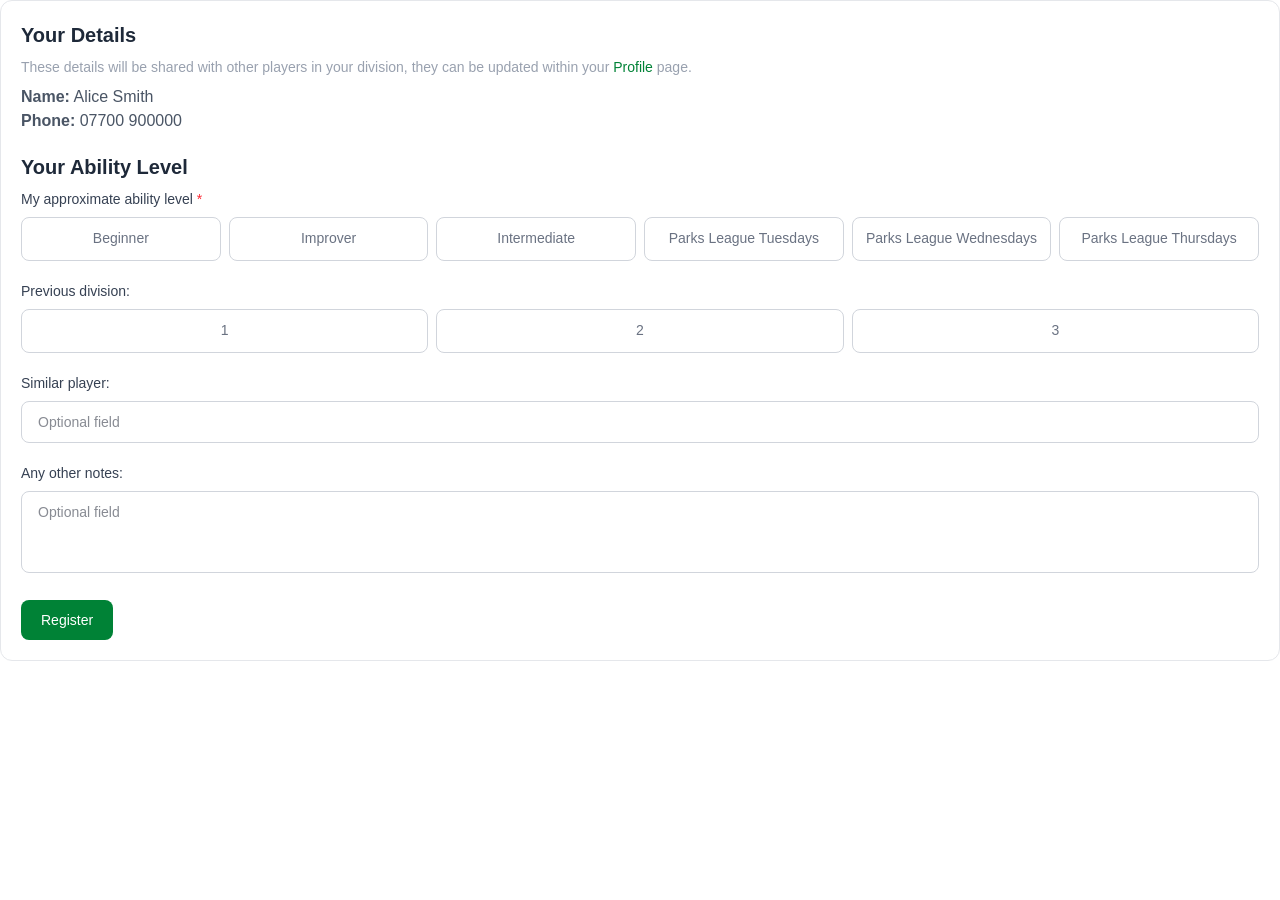
Test: RegistrationForm › shows the saved confirmation then redirects back to the tournament home page
Click the button "Beginner": (121, 239) [21,217,221,261]
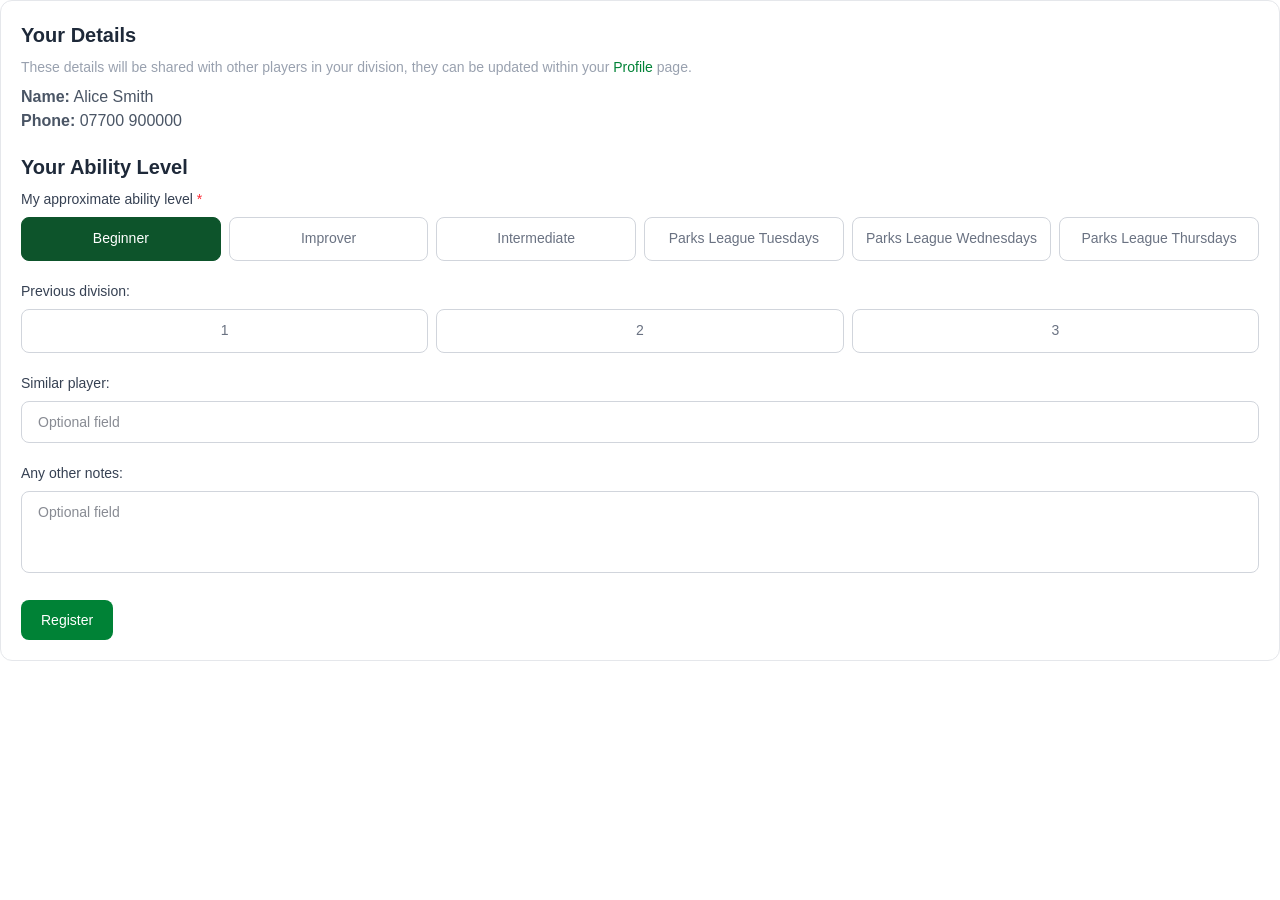
Click the button "Register": (67, 620) [21,600,113,640]
Wait 1200 ms
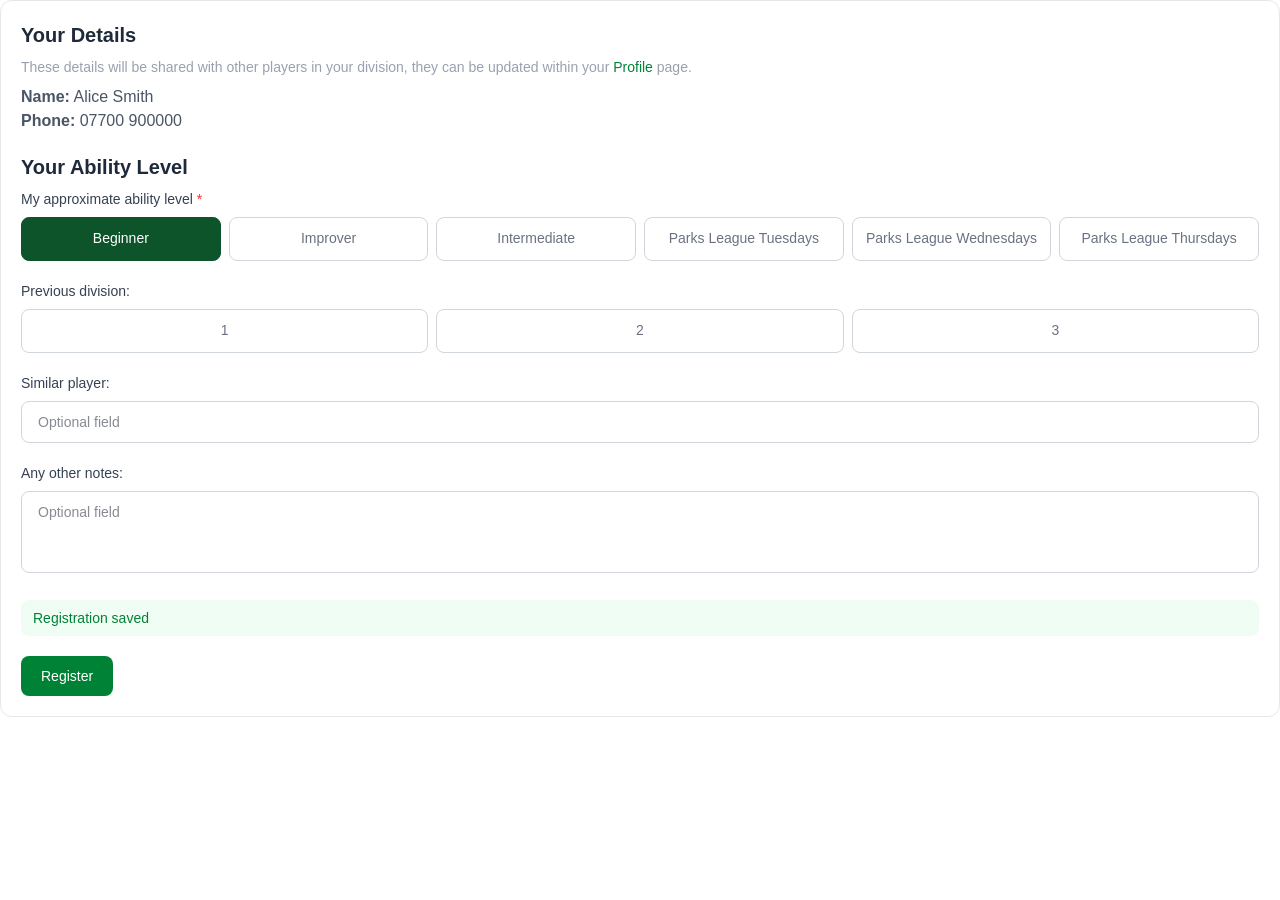
Now the text "Registration saved" is shown, box [21,600,1259,636]
